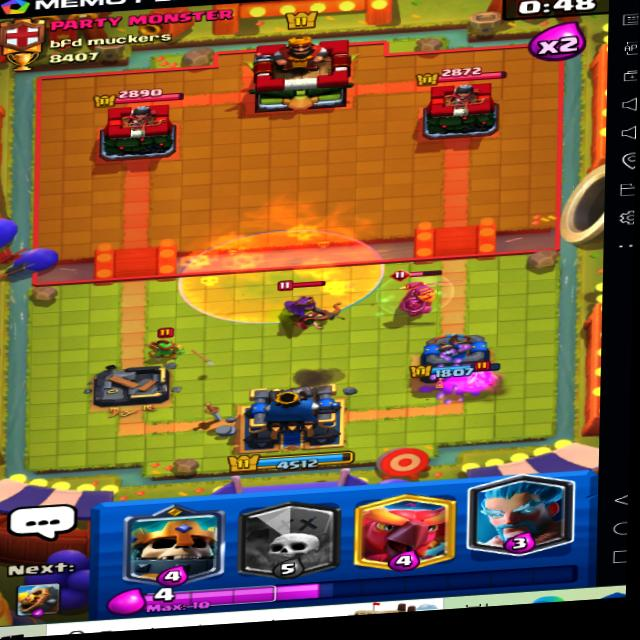EvoKnight: (379, 259, 481, 324)
Goblin: (465, 357, 507, 393)
Queen: (264, 269, 343, 338)
Speargoblin: (126, 322, 197, 371)
